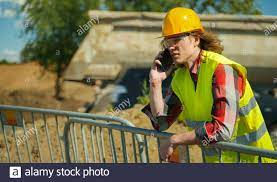Helmet: (158, 9, 202, 34)
Jacket: (175, 68, 273, 163)
